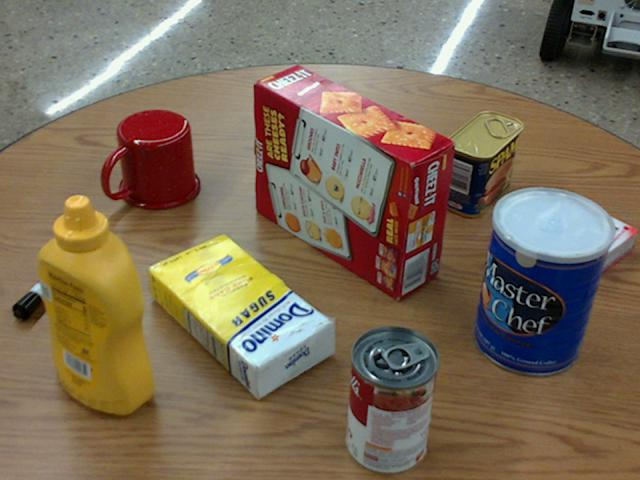cracker_box: (253, 66, 453, 299)
gelatin_box: (532, 201, 637, 280)
large_marker: (12, 235, 95, 316)
master_chef_can: (474, 187, 613, 375)
mug: (102, 110, 199, 209)
mustard_bottle: (36, 194, 151, 412)
potted_meat_can: (443, 111, 523, 216)
sugar_box: (146, 232, 333, 399)
tomato_soup_can: (345, 327, 437, 474)
tuna_fish_can: (262, 79, 335, 151)
